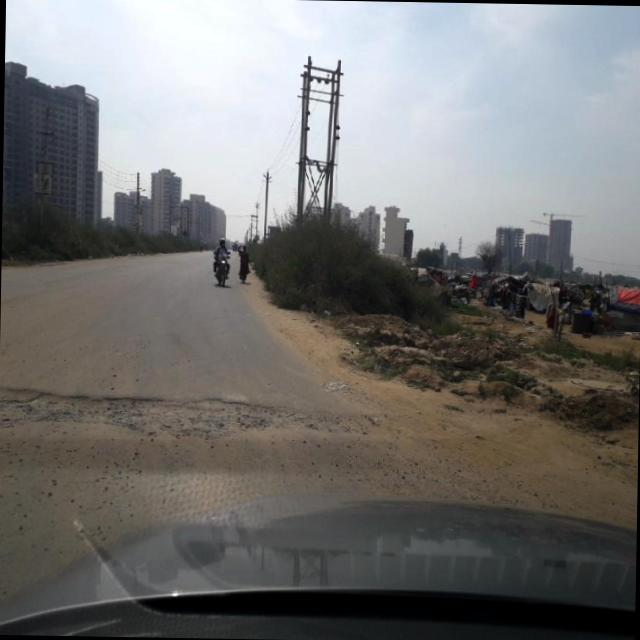pothole: (1, 377, 422, 446)
